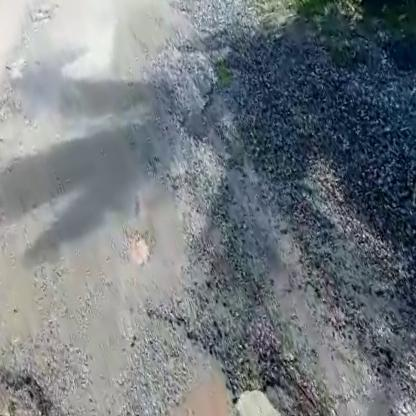pothole: (116, 331, 291, 416), (0, 333, 72, 416)
